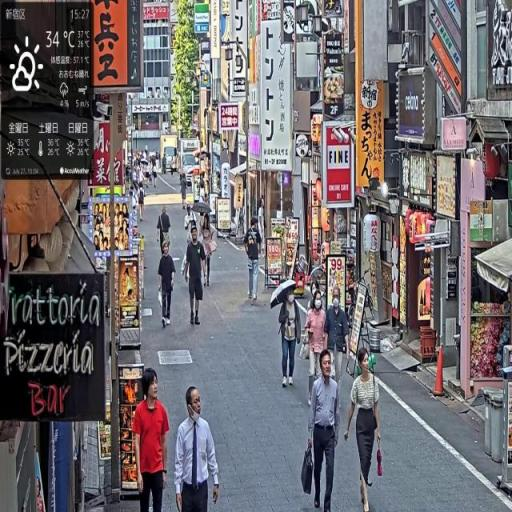person: (345, 347, 384, 512), (305, 350, 342, 512), (175, 386, 222, 512), (133, 368, 171, 511), (324, 288, 352, 399), (277, 284, 303, 390), (305, 292, 328, 404), (184, 224, 209, 327), (158, 243, 178, 330), (244, 216, 263, 304), (201, 212, 219, 288), (157, 205, 172, 256), (180, 170, 189, 210)
